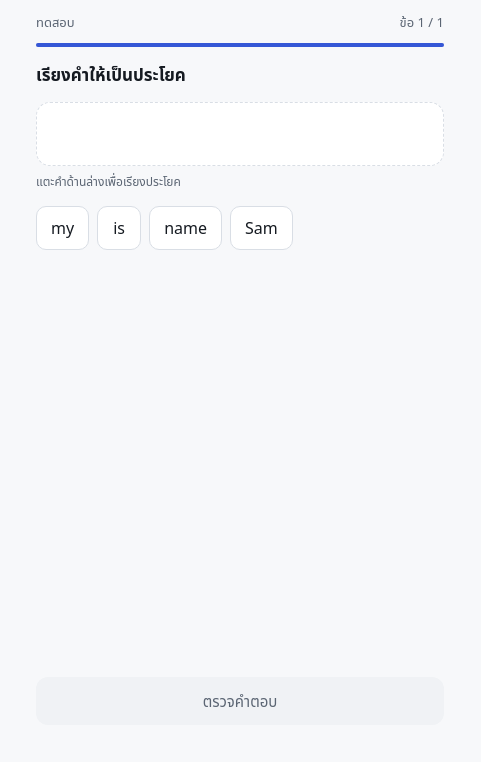
Scenario: one primary action at a time (days 1-7, every exercise) › d001-write-01
Expected: the button "ตรวจคำตอบ" is disabled, [36, 676, 444, 725]
Click the button "my" at (63, 228), box [36, 206, 89, 250]
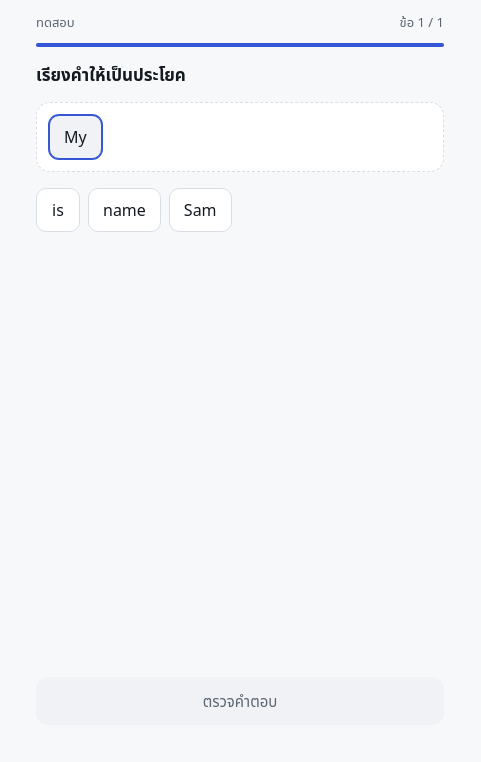
Click the button "is" at (58, 210), box [36, 188, 80, 232]
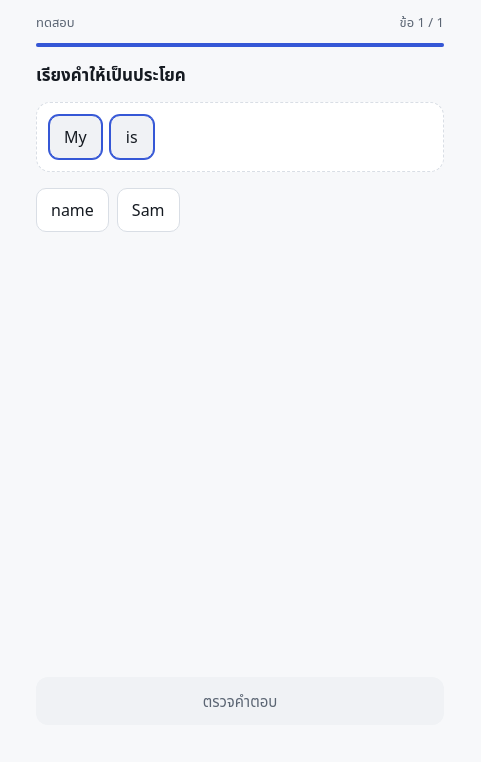
Click the button "name" at (72, 210), box [36, 188, 109, 232]
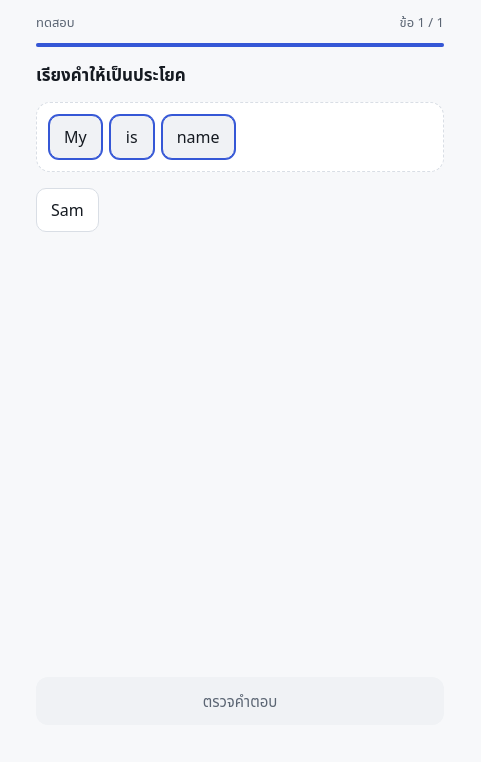
Click the button "Sam" at (67, 210), box [36, 188, 99, 232]
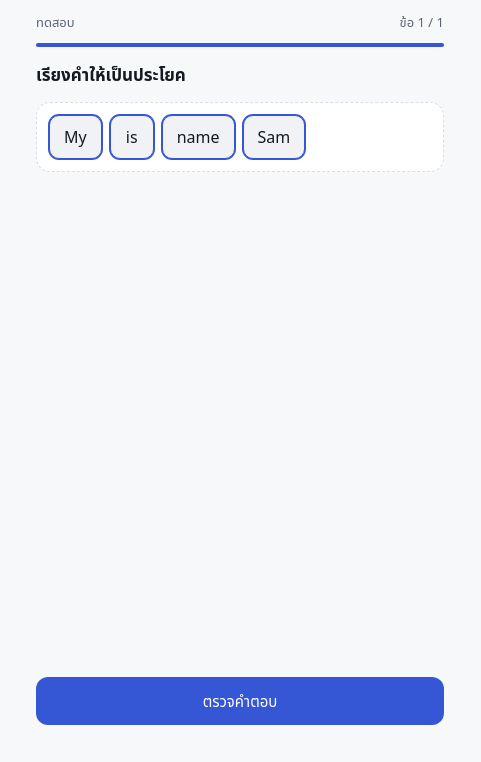
Expected: the button "ตรวจคำตอบ" is enabled
Click the button "ตรวจคำตอบ" at (240, 701), box [36, 676, 444, 725]
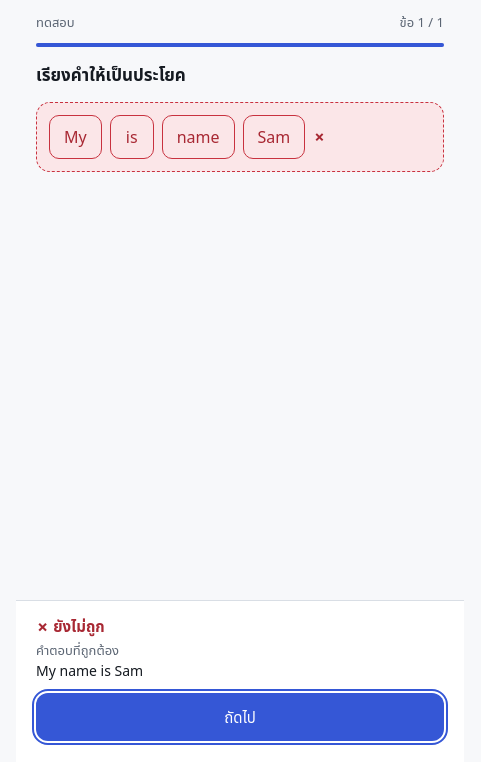
Expected: the button "ถัดไป" is enabled, [36, 692, 444, 741]
Expected: no buttons "ตรวจคำตอบ" are shown
Expected: the message "✗ ยังไม่ถูก คำตอบที่ถูกต้อง My name is Sam" is not empty, [36, 616, 143, 680]
